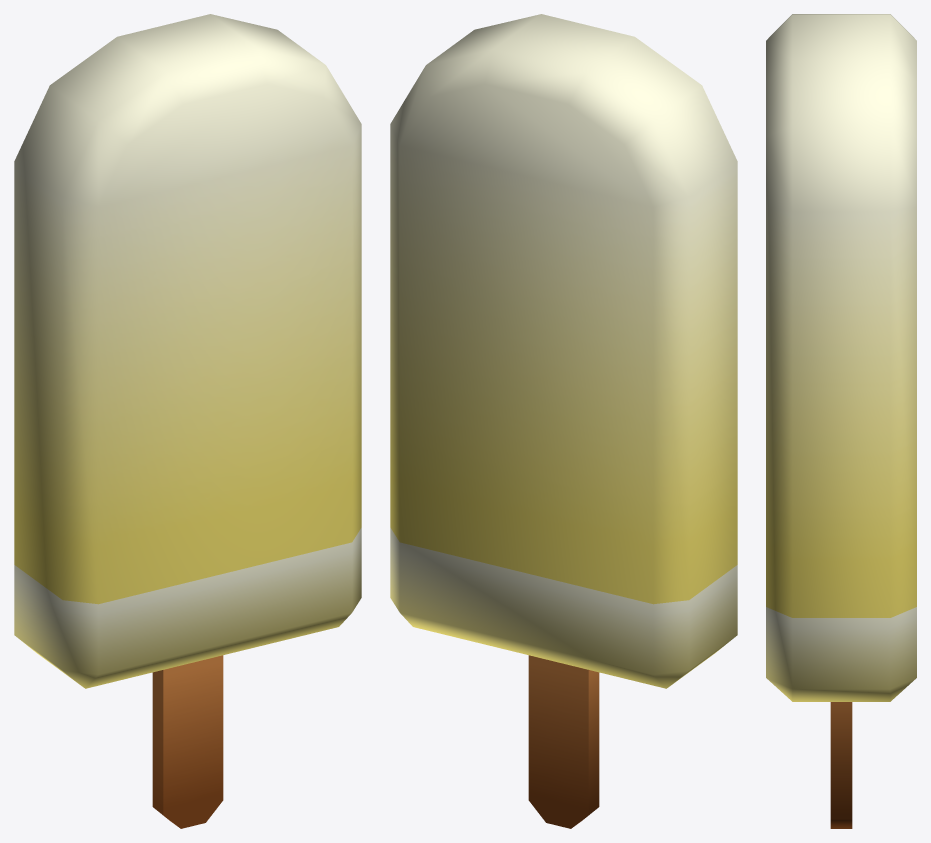
The model's file is m_SimplePopsicle02.fbx.
The picture shows the model from 3 angles, left to right: view 1: azimuth 30°, elevation 25°; view 2: azimuth 150°, elevation 25°; view 3: azimuth 270°, elevation 25°; orthographic projection.
Parts seen in each view (by area): view 1: m_SimplePopsicle02; view 2: m_SimplePopsicle02; view 3: m_SimplePopsicle02.
Boxes of the visible parts, x1,y1,x2,y2 form: m_SimplePopsicle02: (14, 14, 361, 828); m_SimplePopsicle02: (390, 14, 737, 828); m_SimplePopsicle02: (766, 14, 916, 828).
Size of the model in its own units: 9.24 by 22.99 by 4.
